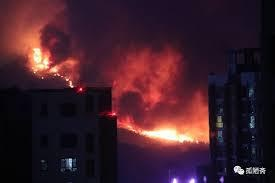fire: (112, 45, 205, 133), (27, 43, 78, 89)
